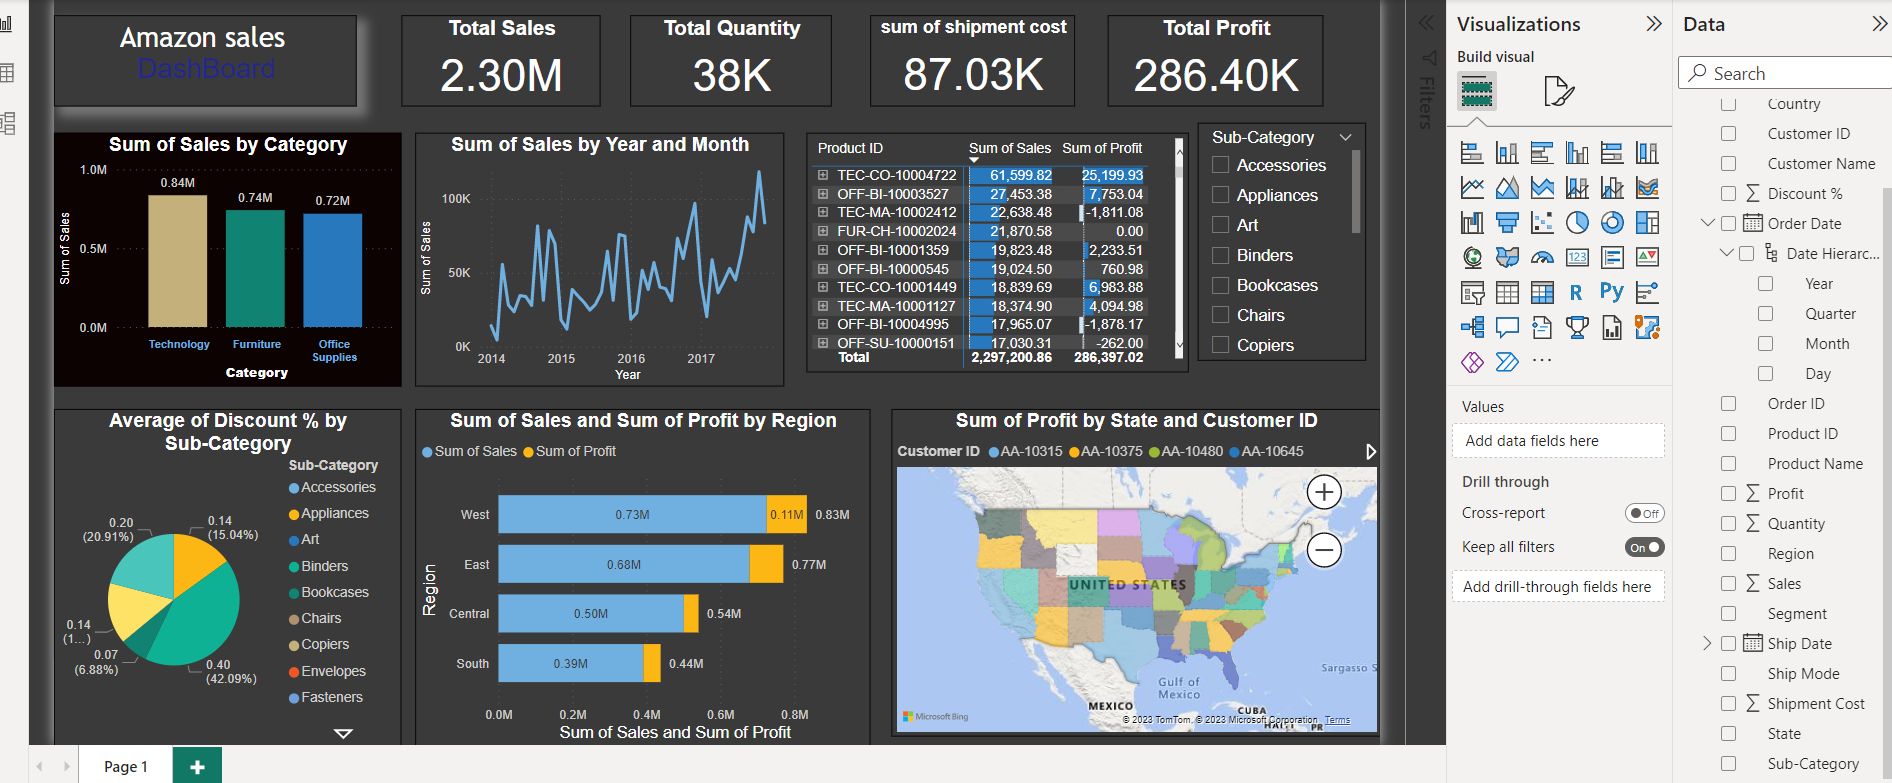

The page's visual inventory and layout, read from the dashboard file:
{"tool":"powerbi","page":{"name":"Page 1","canvas":[1280,720],"ordinal":0},"visuals":[{"type":"filledMap","fields":{"Series":["Orders.Customer ID"],"Category":["Orders.State"]},"box":[808.2,395.2,472,315.6],"z":0},{"type":"barChart","fields":{"Category":["Orders.Region","Orders.State","Orders.City"],"Y":["Sum(Orders.Sales)","Sum(Orders.Profit)"]},"box":[348.5,395.6,439,316],"z":1000},{"type":"pieChart","fields":{"Series":["Orders.Sub-Category"],"Y":["Avg(Orders.Discount %)"]},"box":[0,395.6,335.3,316],"z":2000},{"type":"slicer","fields":{"Values":["Orders.Sub-Category"]},"box":[1103.5,119.4,162.8,254.5],"z":3000},{"type":"columnChart","fields":{"Y":["Sum(Orders.Sales)"],"Category":["Orders.Category"]},"box":[0,129.6,334.9,244.5],"z":4000},{"type":"lineChart","fields":{"Y":["Sum(Orders.Sales)"],"Category":["Orders.Order Date.Variation.Date Hierarchy.Year","Orders.Order Date.Variation.Date Hierarchy.Month"]},"box":[348.4,129.6,355.7,244.5],"z":5000},{"type":"pivotTable","fields":{"Rows":["Orders.Product ID","Orders.Category","Orders.Segment"],"Values":["Sum(Orders.Sales)","Sum(Orders.Profit)"]},"box":[726,129,369,244.8],"z":6000},{"type":"textbox","box":[0,15.9,292.2,88],"z":7000},{"type":"card","title":"Total Sales","fields":{"Values":["Sum(Orders.Sales)"]},"box":[334.9,15.9,191.9,88],"z":8000},{"type":"card","title":"Total Quantity","fields":{"Values":["Sum(Orders.Quantity)"]},"box":[556.2,15.9,194.4,88],"z":9000},{"type":"card","title":"Total Profit","fields":{"Values":["Sum(Orders.Profit)"]},"box":[1017,15.9,207.8,88],"z":10000},{"type":"card","title":"Sum of shipment cost","fields":{"Values":["Sum(Orders.Shipment Cost)"]},"box":[787.5,15.7,197.8,88],"z":11000}]}

Visuals, with their boxes on the page's 1280x720 design canvas (x1, y1, x2, y2). These are canvas units, not pixel positions in the 1892x783 screenshot, which may show the page scaled, cropped or inside an application window:
filledMap - Orders.Customer ID x Orders.State: rect(808, 395, 1280, 711)
barChart - Orders.Region x Orders.State: rect(348, 396, 788, 712)
pieChart - Orders.Sub-Category x Avg(Orders.Discount %): rect(0, 396, 335, 712)
slicer - Orders.Sub-Category: rect(1104, 119, 1266, 374)
columnChart - Sum(Orders.Sales) x Orders.Category: rect(0, 130, 335, 374)
lineChart - Sum(Orders.Sales) x Orders.Order Date.Variation.Date Hierarchy.Year: rect(348, 130, 704, 374)
pivotTable - Orders.Product ID x Orders.Category: rect(726, 129, 1095, 374)
textbox: rect(0, 16, 292, 104)
"Total Sales" card: rect(335, 16, 527, 104)
"Total Quantity" card: rect(556, 16, 751, 104)
"Total Profit" card: rect(1017, 16, 1225, 104)
"Sum of shipment cost" card: rect(788, 16, 985, 104)
